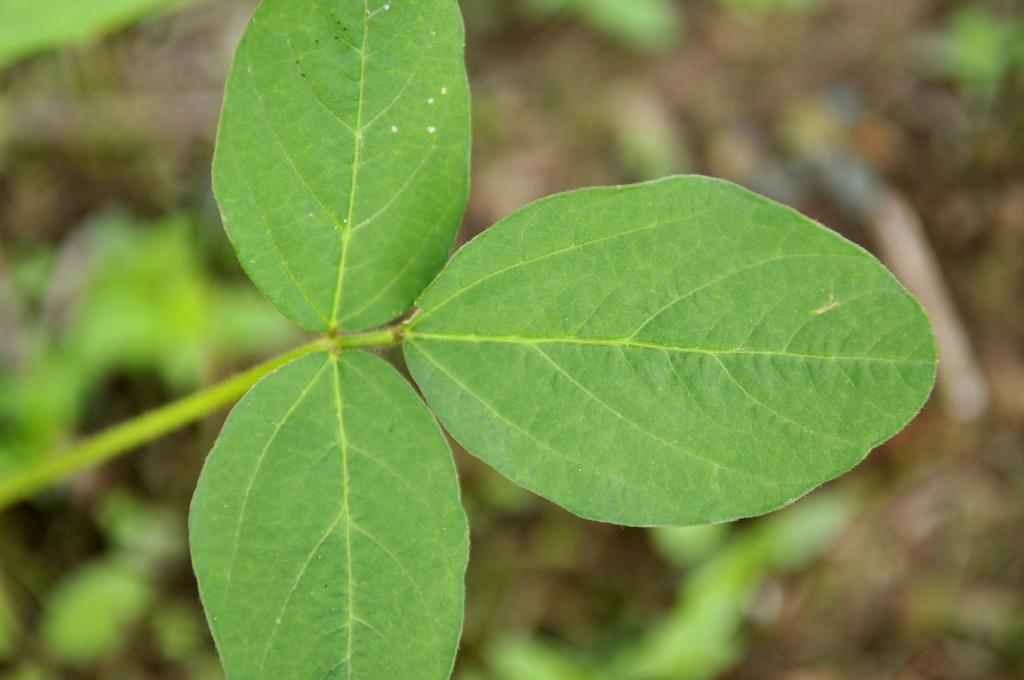Soyabean leaf: (399, 163, 948, 543), (182, 341, 482, 680), (201, 1, 489, 339)
